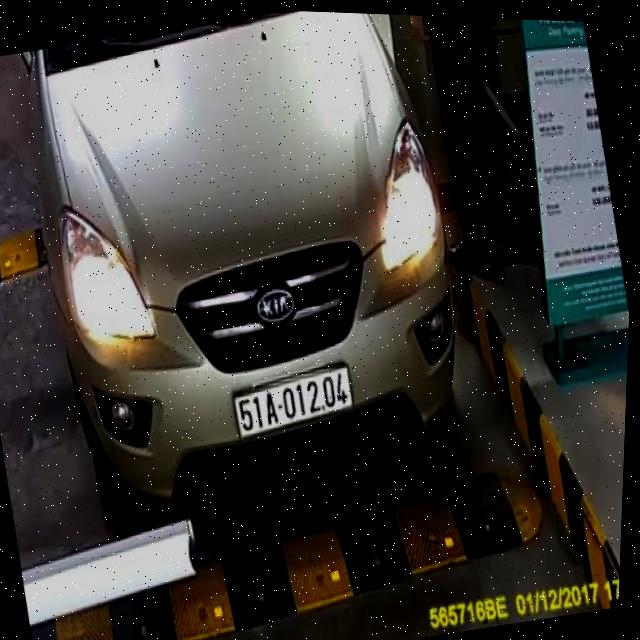car: (0, 0, 515, 559)
plate: (225, 363, 363, 441)
